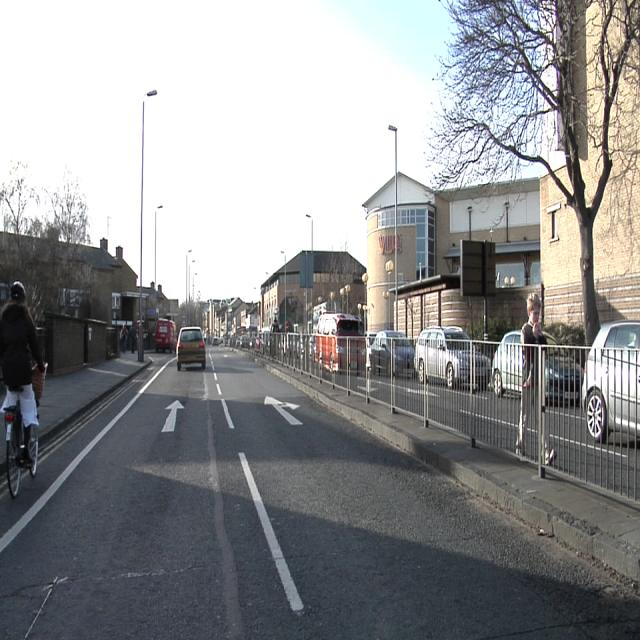Bicyclist: (1, 279, 42, 495)
Building: (208, 173, 582, 338), (1, 248, 131, 320), (262, 251, 366, 331), (594, 158, 640, 321), (206, 297, 258, 339)
Car: (585, 322, 639, 443), (416, 329, 472, 388), (314, 315, 365, 373), (492, 331, 526, 395), (547, 349, 582, 406), (370, 331, 414, 374), (176, 328, 206, 370)
Road: (3, 348, 639, 626)
Tree: (428, 3, 639, 337), (1, 159, 88, 242)
Truck_Bus: (156, 321, 176, 351)
